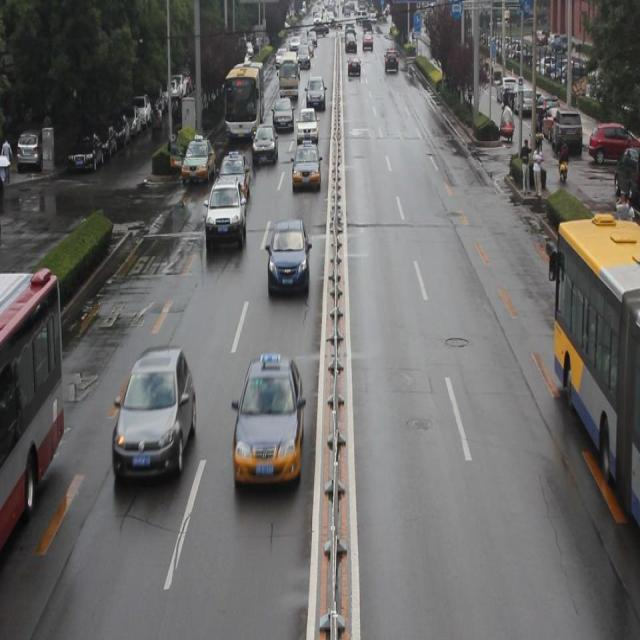car: (112, 346, 196, 479), (233, 350, 302, 491), (203, 176, 247, 247), (268, 221, 308, 299), (183, 134, 216, 184), (217, 152, 249, 202), (291, 140, 320, 188), (250, 121, 278, 169), (272, 96, 294, 136), (297, 105, 319, 144)
van: (548, 207, 640, 530), (1, 268, 66, 545), (225, 58, 264, 141)
